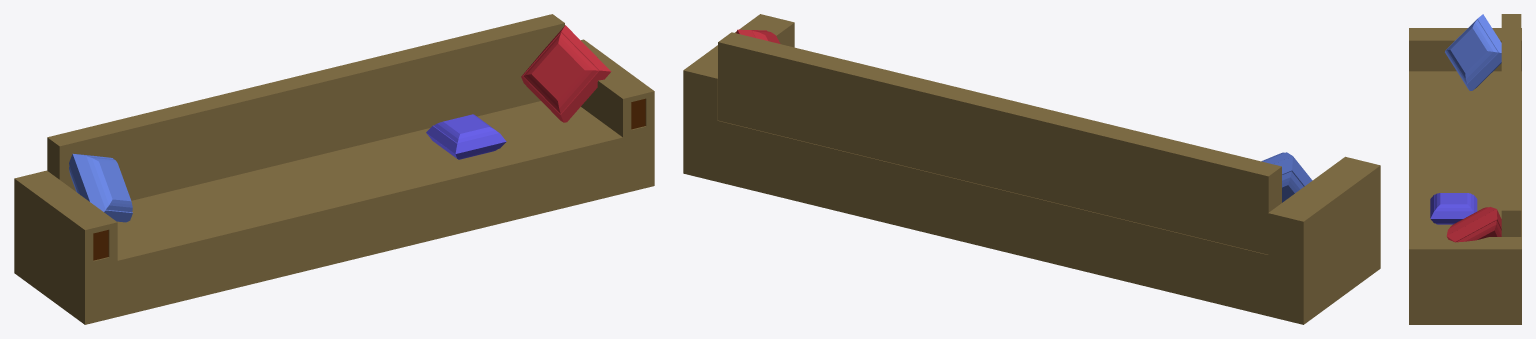
Rendered from Sofá.fbx.
3 views of the same model, side by side, from view 1: azimuth 30°, elevation 25°; view 2: azimuth 150°, elevation 25°; view 3: azimuth 270°, elevation 25° (orthographic). The views are drawn at different scales.
Visible parts, largest first — view 1: Cube.041, Plane.003, Plane.002, Plane.004; view 2: Cube.041, Plane.002; view 3: Cube.041, Plane.002, Plane.003, Plane.004.
Part boxes in pixels (x1,y1,x2,y2): Cube.041: (14, 14, 654, 324); Plane.003: (521, 25, 611, 122); Plane.002: (69, 153, 132, 222); Plane.004: (426, 114, 506, 159); Cube.041: (683, 14, 1380, 324); Plane.002: (1261, 152, 1312, 202); Cube.041: (1409, 14, 1521, 324); Plane.002: (1445, 14, 1501, 90); Plane.003: (1446, 207, 1501, 242); Plane.004: (1430, 193, 1477, 224).
Bounding box in the file's own units: 1627 × 352 × 350.
